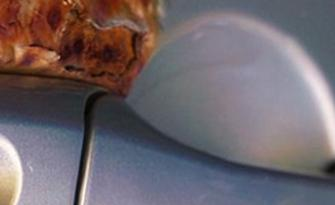rust: (3, 1, 145, 99)
